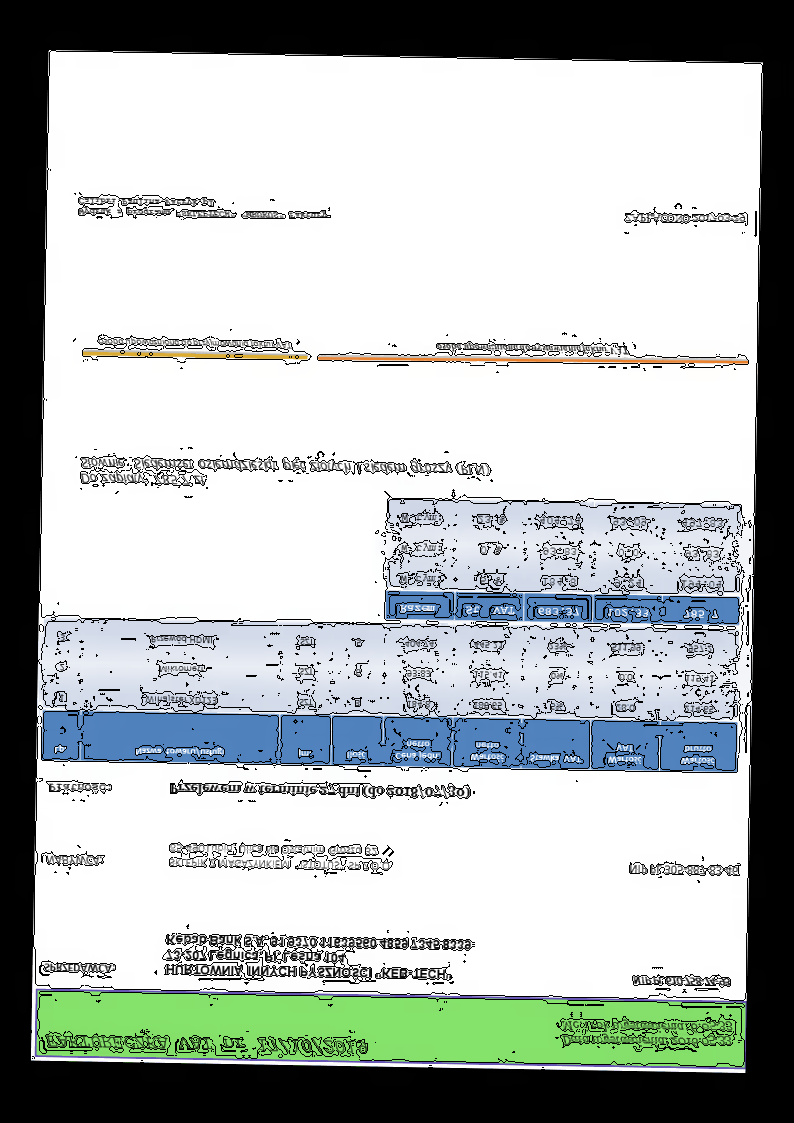Table: (40, 616, 741, 775), (383, 497, 744, 626)
TextBox: (163, 931, 474, 985), (77, 455, 491, 495), (43, 1030, 369, 1057), (167, 840, 395, 874), (167, 780, 471, 803), (76, 195, 330, 222), (558, 1015, 735, 1051), (96, 333, 295, 352), (434, 340, 630, 358), (622, 209, 746, 227), (626, 861, 740, 879), (631, 973, 733, 990), (41, 961, 117, 977), (45, 781, 113, 796), (44, 854, 104, 869)
